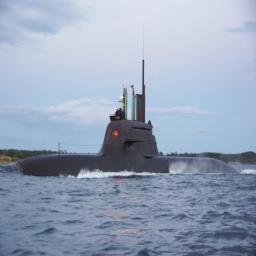submarine: (20, 60, 242, 177)
